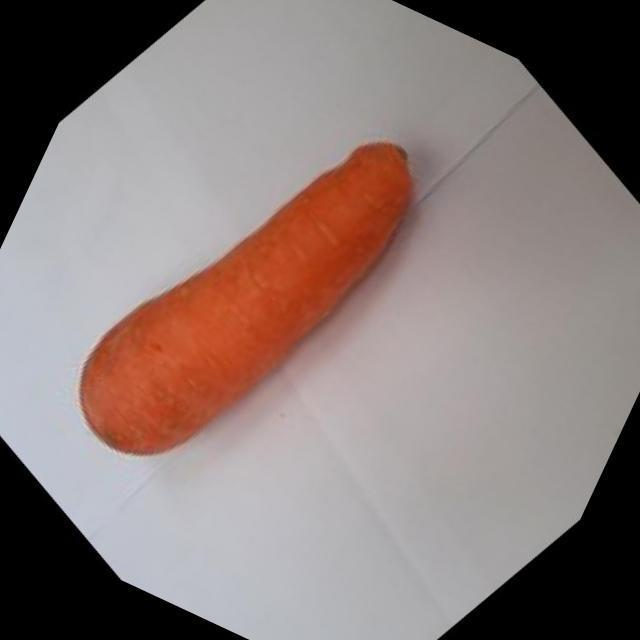Carrot: (80, 142, 411, 453)
